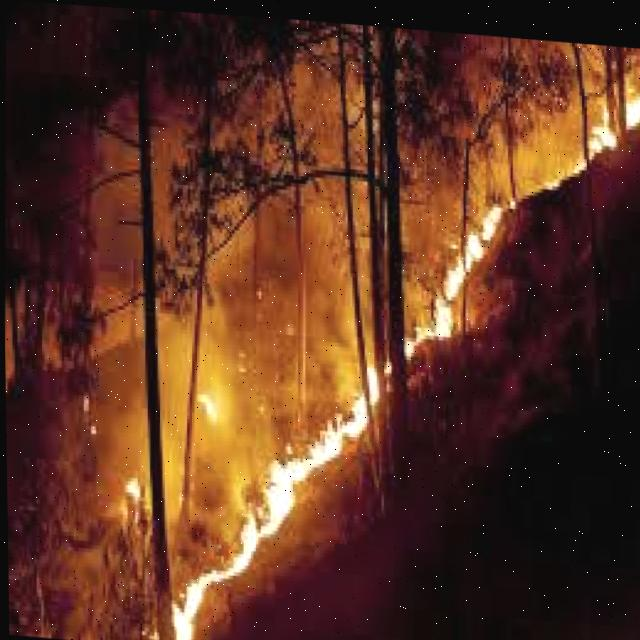smoke: (4, 0, 640, 640)
